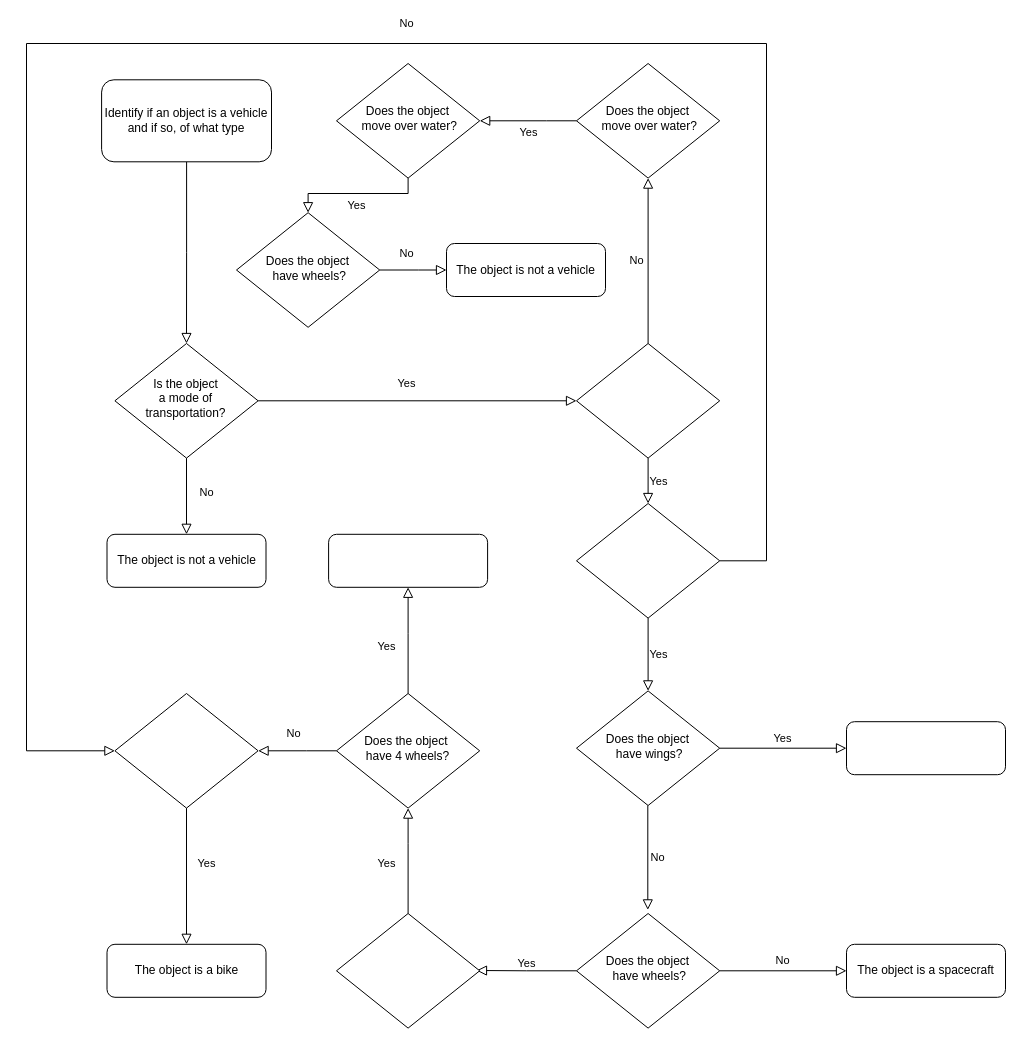
The diagram is 1023 pixels wide and 1046 high, and some of its shapes have lost their labels. The shapes that lost their labels are listed below. From the top down, each one's centre as x and y in pixels, then its label:
[648,400]: Does the object fly in the air?
[408,560]: The object is a car
[648,560]: Does the object have an engine?
[186,750]: Does the object have 2 wheels?
[926,748]: The object is an airplane
[408,970]: Does the object drive on land?
